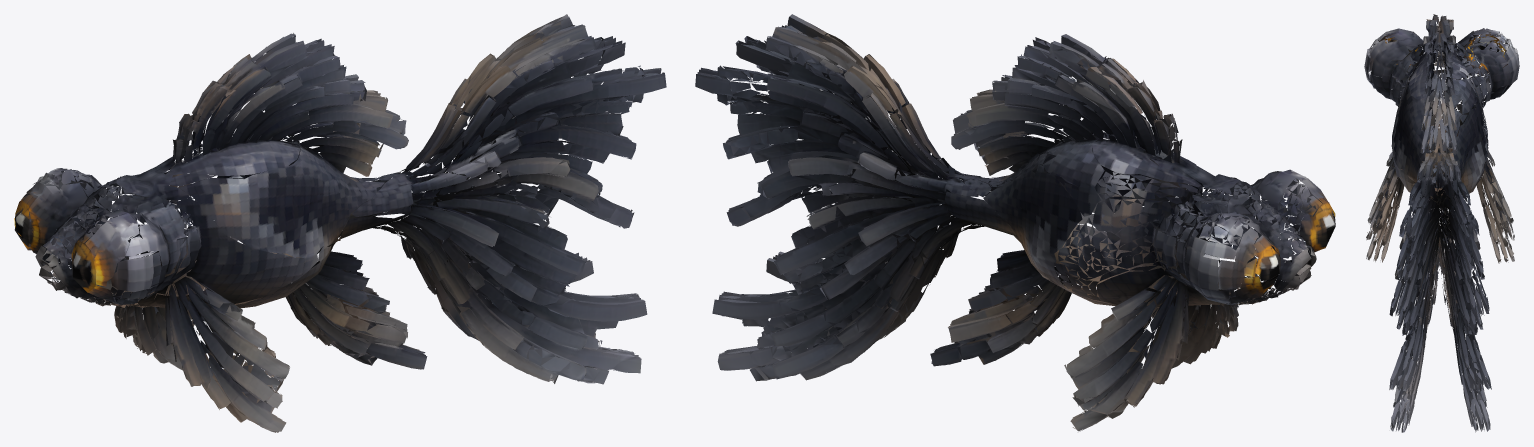
The model's file is fish_c.glb.
The picture shows the model from 3 angles, left to right: view 1: azimuth 30°, elevation 25°; view 2: azimuth 150°, elevation 25°; view 3: azimuth 270°, elevation 25°; orthographic projection. The views are drawn at different scales.
Visible parts, largest first — view 1: node_0; view 2: node_0; view 3: node_0.
Part boxes in pixels (x1=…): node_0: x1=14, y1=14, x2=666, y2=432; node_0: x1=695, y1=14, x2=1335, y2=431; node_0: x1=1364, y1=14, x2=1519, y2=432.
Bounding box in the file's own units: 1.1 × 0.6961 × 0.327.
Materials: 1 (1 with a texture image).
